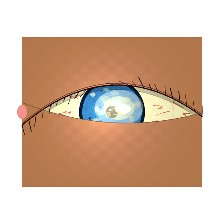corneal_ulcer: (94, 88, 144, 128)
